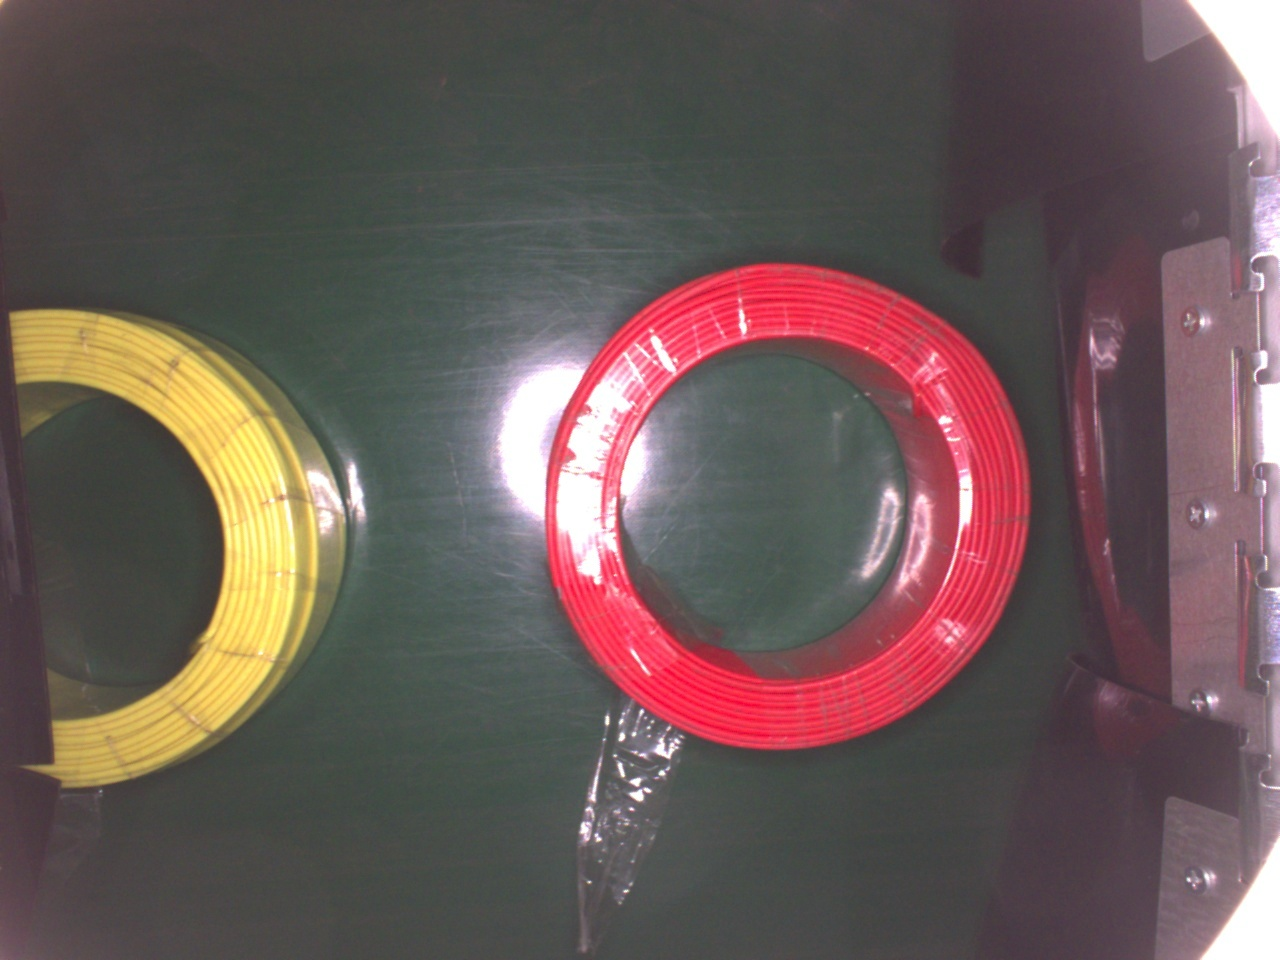red: (543, 260, 1036, 754)
yellow: (0, 301, 354, 791)
